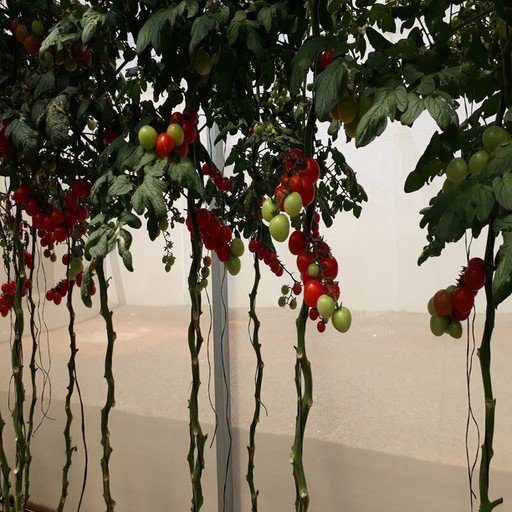green tomato bunch: (443, 113, 512, 180)
mixed tomato bunch: (317, 47, 387, 140), (289, 231, 350, 337), (10, 17, 96, 63), (136, 110, 201, 156)
red tomato bunch: (430, 257, 486, 336), (16, 187, 59, 262), (272, 149, 322, 212), (183, 209, 232, 260), (55, 180, 94, 240), (201, 164, 244, 193), (1, 275, 28, 321), (250, 239, 283, 276), (45, 278, 73, 303)
